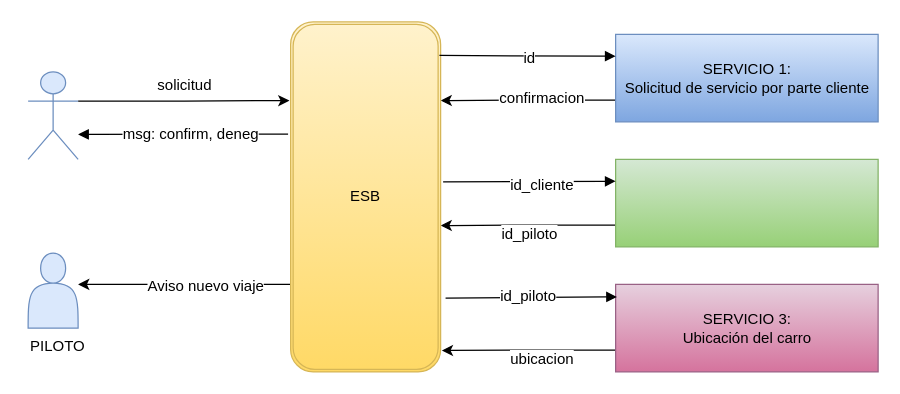
Some shapes in this 900 by 394 pixel diagram are drawn without their labels. The centre of each missing label's shape, as x and y in pixels:
"CLIENTE" goes at point (52, 115).
"SERVICIO 2: Recepción y aviso al piloto" goes at point (746, 202).
